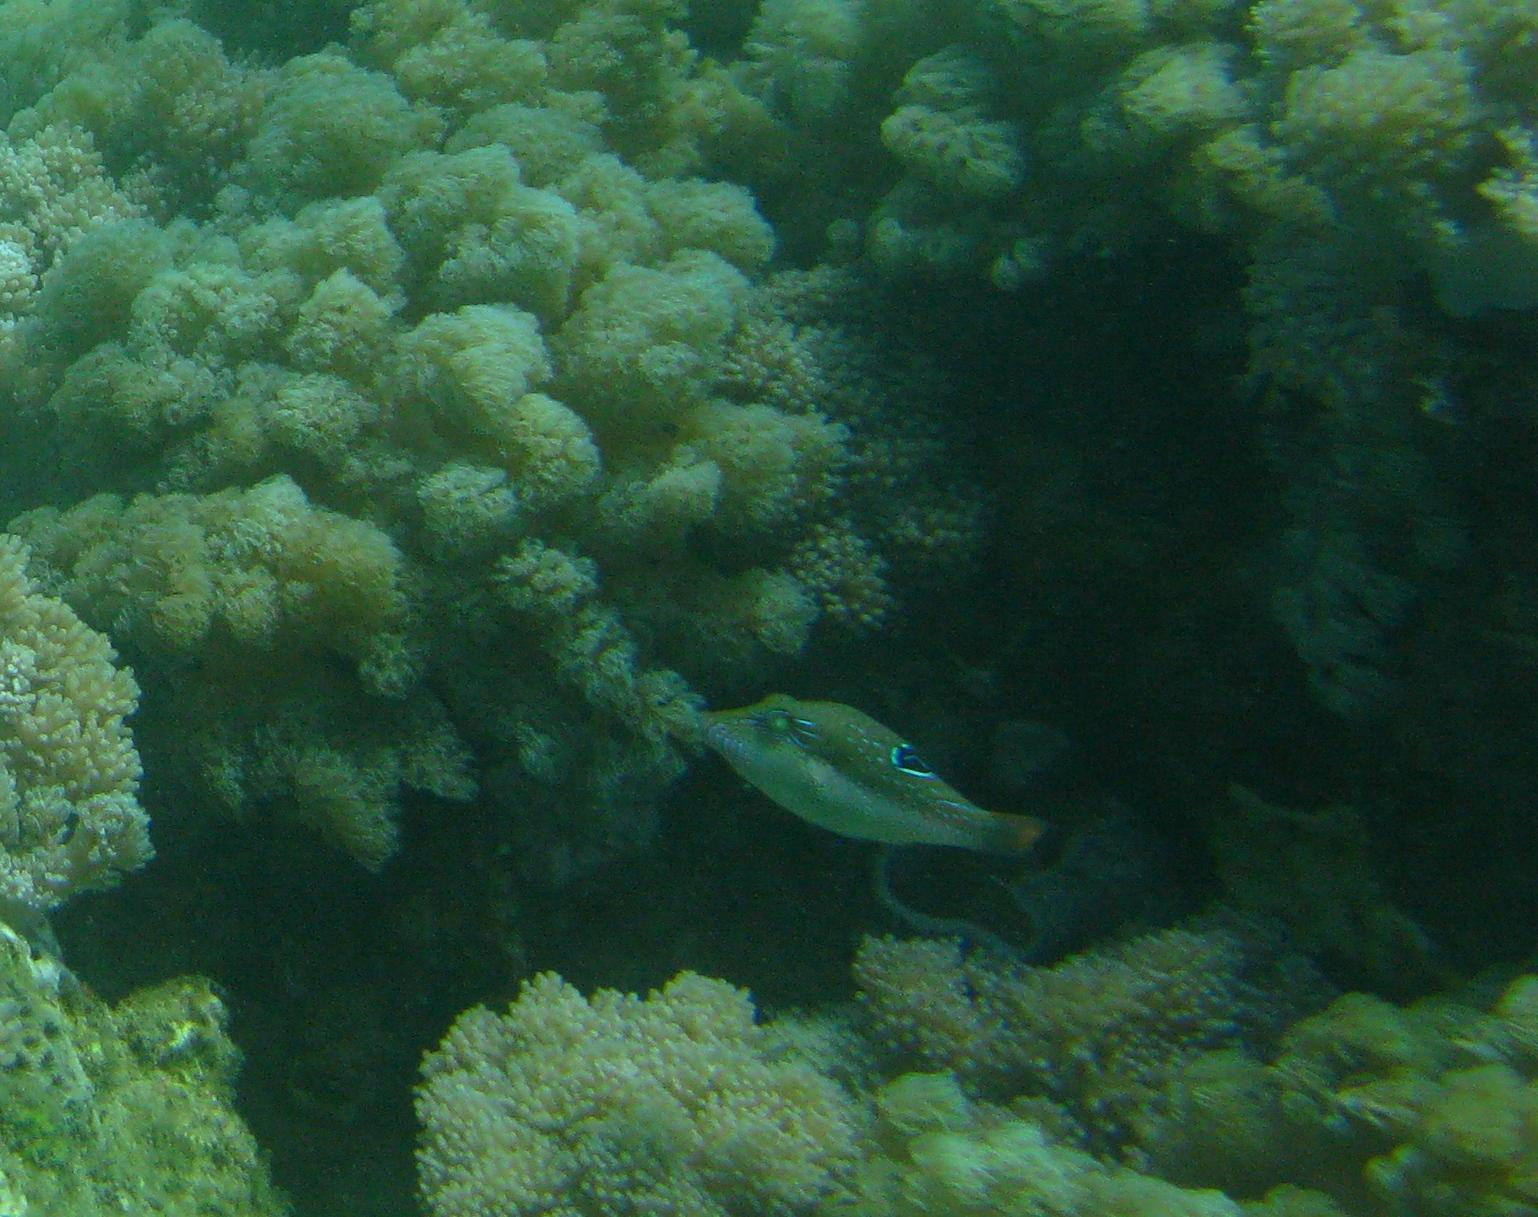Fish: (678, 687, 1061, 887)
